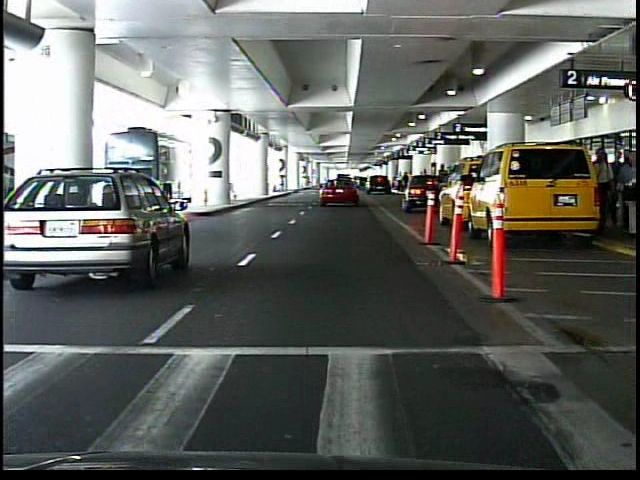person: (436, 161, 451, 205)
